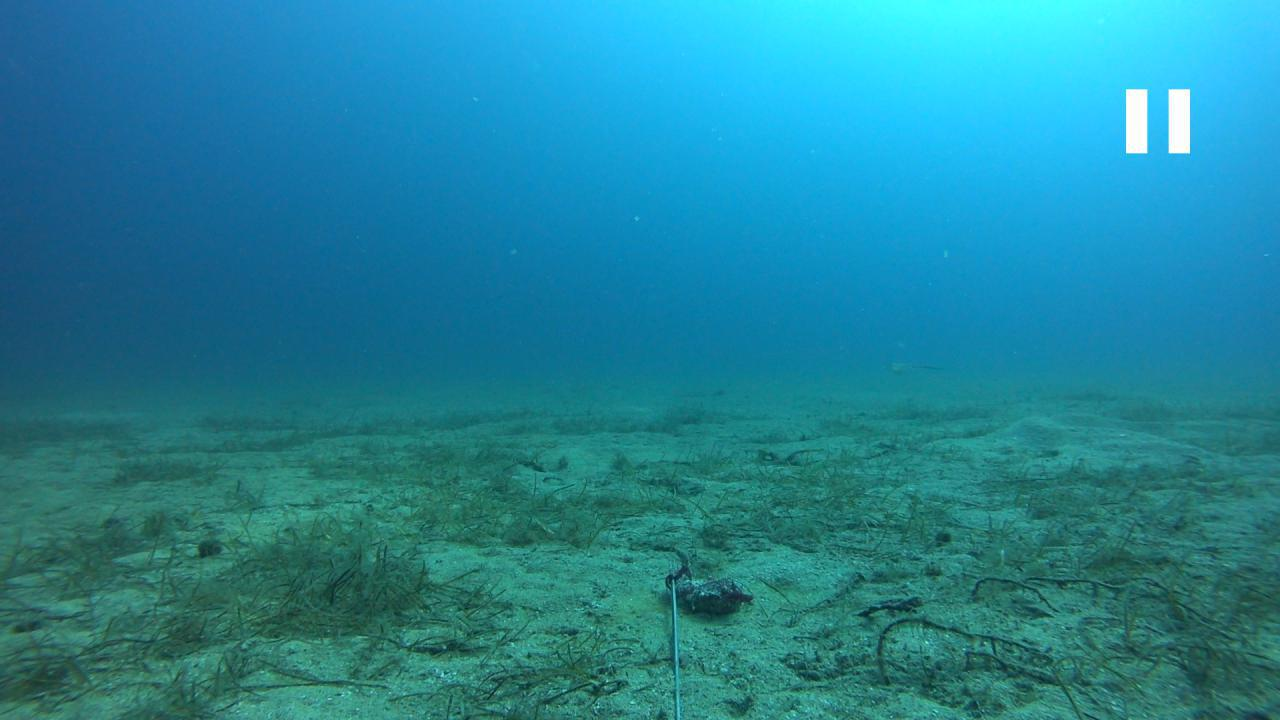dasyatis: (882, 360, 944, 373)
